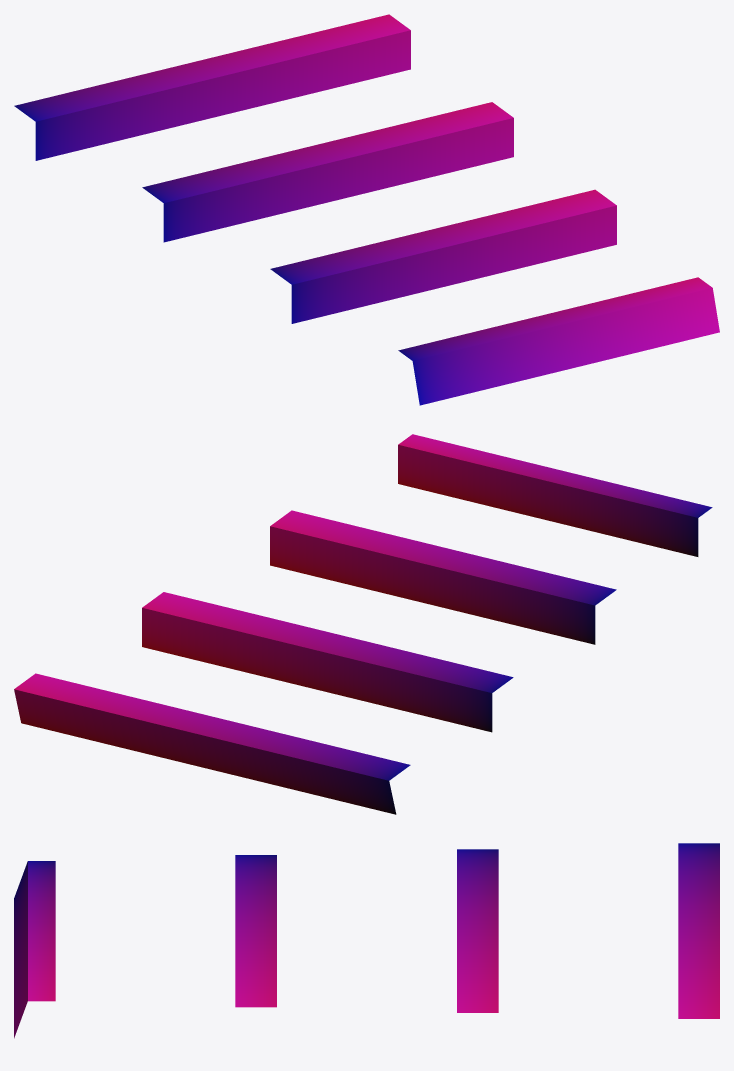
3 renders of one model, top to bottom at view 1: azimuth 30°, elevation 25°; view 2: azimuth 150°, elevation 25°; view 3: azimuth 270°, elevation 25°, orthographic. The views are drawn at different scales.
Parts seen in each view (by area): view 1: model_2CD5; view 2: model_2CD5; view 3: model_2CD5.
Part boxes in pixels (x1,y1,x2,y2): model_2CD5: (14,14,719,405); model_2CD5: (14,434,712,814); model_2CD5: (14,843,719,1038).
Bounding box in the file's own units: 30.23 × 3.02 × 51.4.
